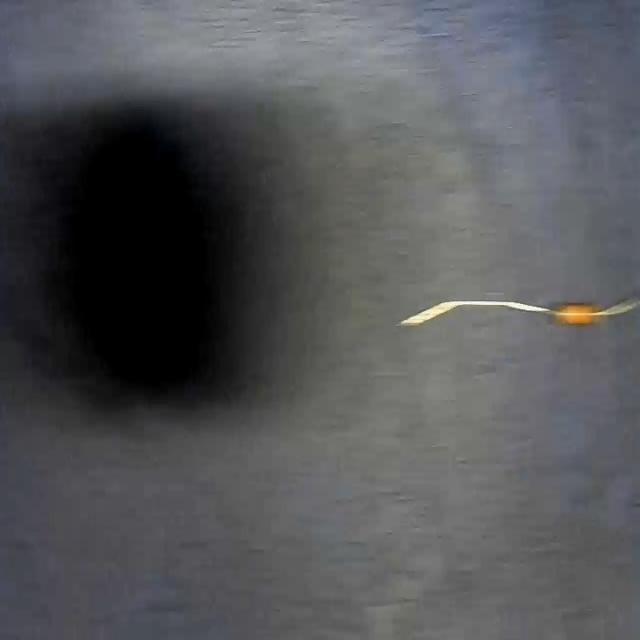resistor: (400, 282, 640, 338)
